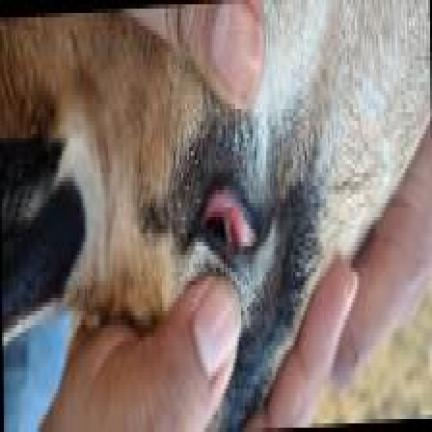goat-eye-anemia-22222222: (182, 178, 273, 267)
